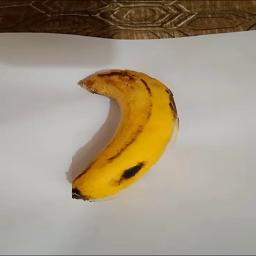Banana Semifresh: (72, 69, 181, 203)
